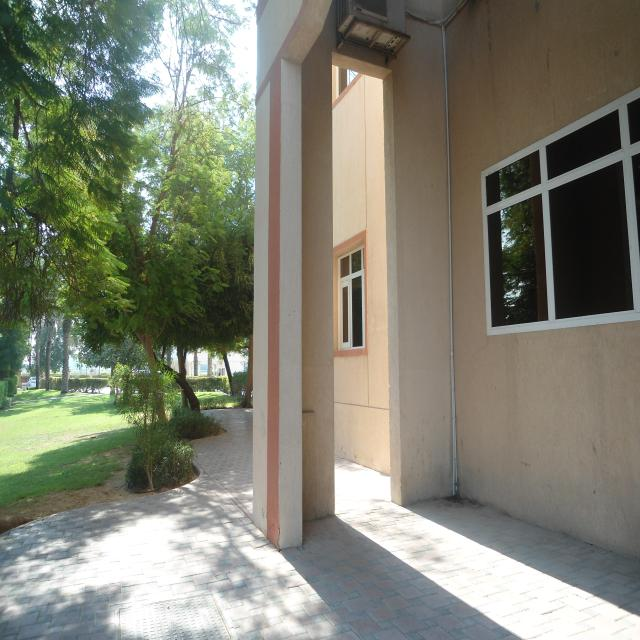bush: (119, 428, 186, 488), (184, 364, 256, 404), (22, 367, 128, 394), (152, 397, 222, 431)
pillar: (247, 0, 341, 539)
tree-chair-bench-table-wall: (1, 0, 130, 373), (141, 106, 269, 418), (109, 354, 192, 488), (51, 148, 92, 399), (44, 296, 63, 412), (18, 299, 36, 400)
wall: (382, 20, 640, 555)
window: (466, 90, 640, 344), (330, 237, 364, 356)
